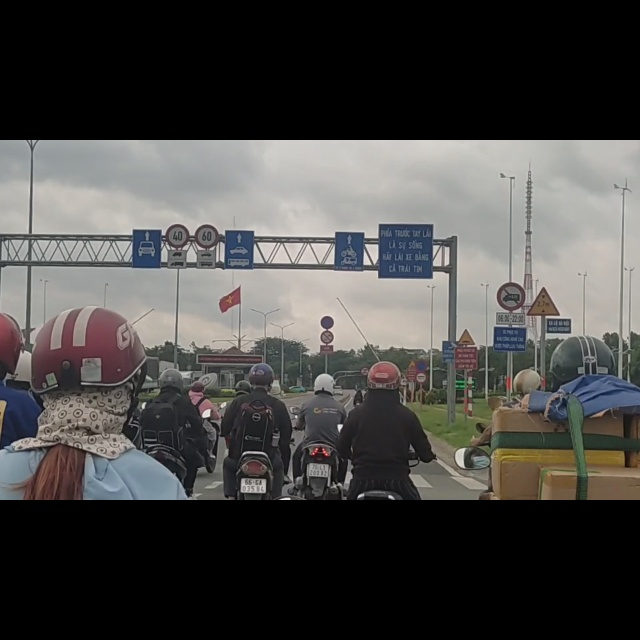bien_nguy_hiem: (527, 260, 561, 314), (497, 254, 527, 302), (165, 148, 190, 192), (194, 149, 219, 192), (457, 335, 477, 364), (441, 357, 455, 393), (320, 312, 335, 335), (320, 339, 334, 361), (415, 389, 427, 410), (416, 412, 427, 434), (360, 403, 369, 418)
